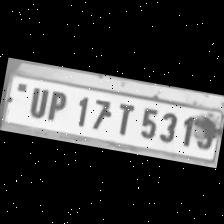1: (67, 90, 93, 128), (175, 110, 198, 146)
3: (155, 105, 181, 143)
5: (133, 100, 161, 140)
7: (85, 92, 116, 132)
P: (42, 85, 72, 123)
T: (109, 98, 138, 136)
U: (30, 82, 60, 120), (22, 80, 51, 118)
